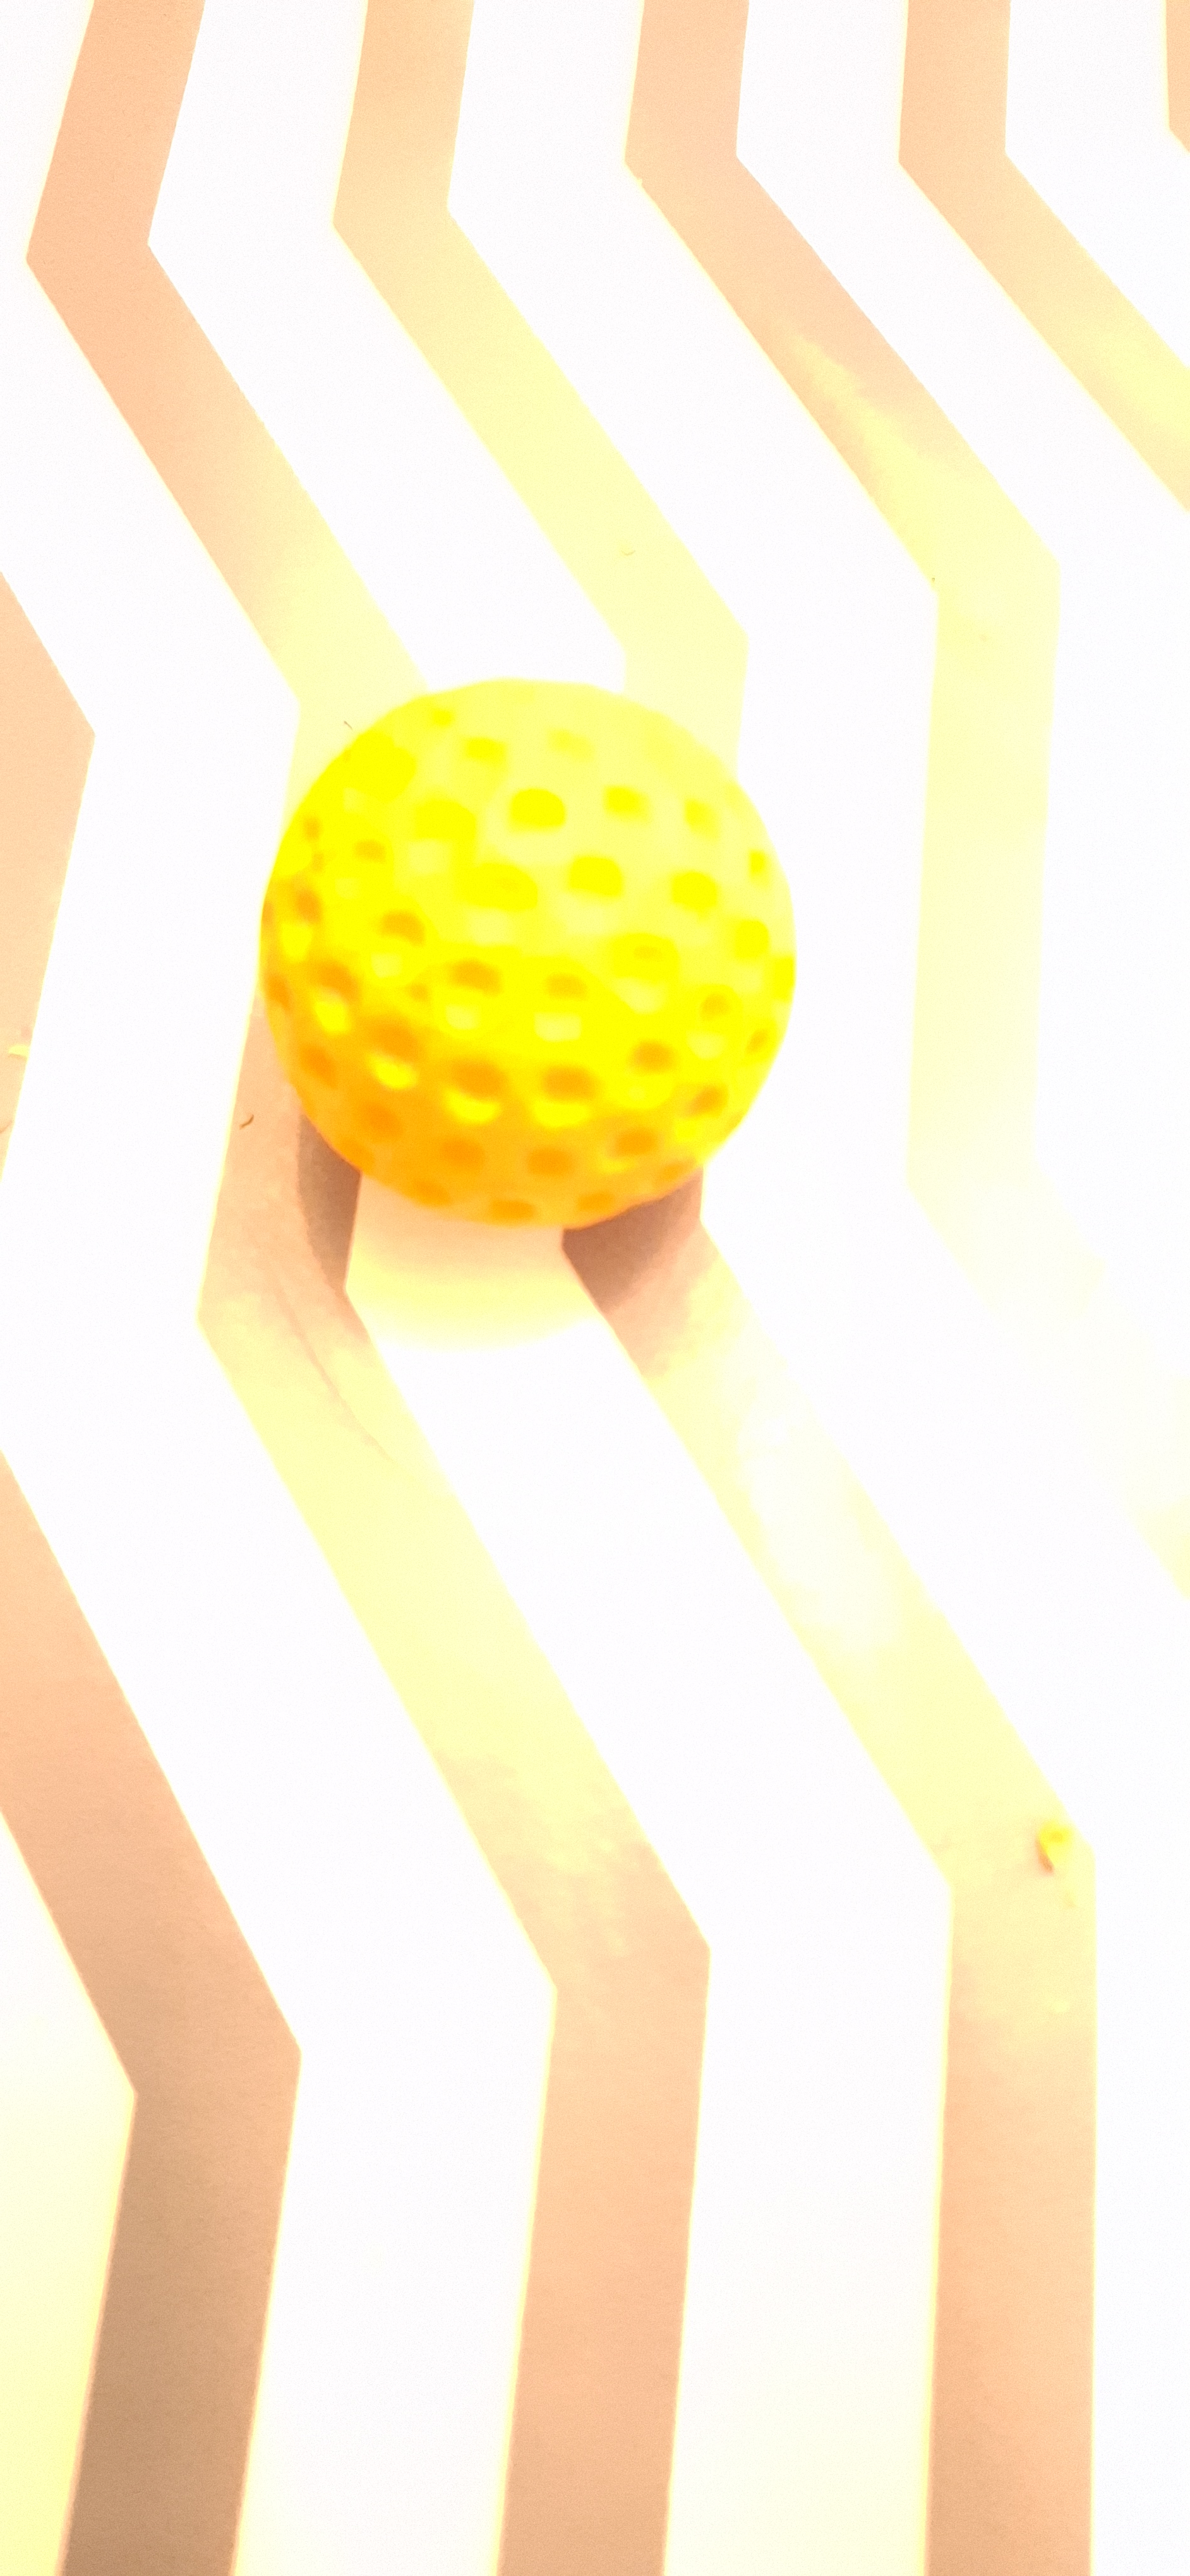ball: (309, 831, 570, 2004)
